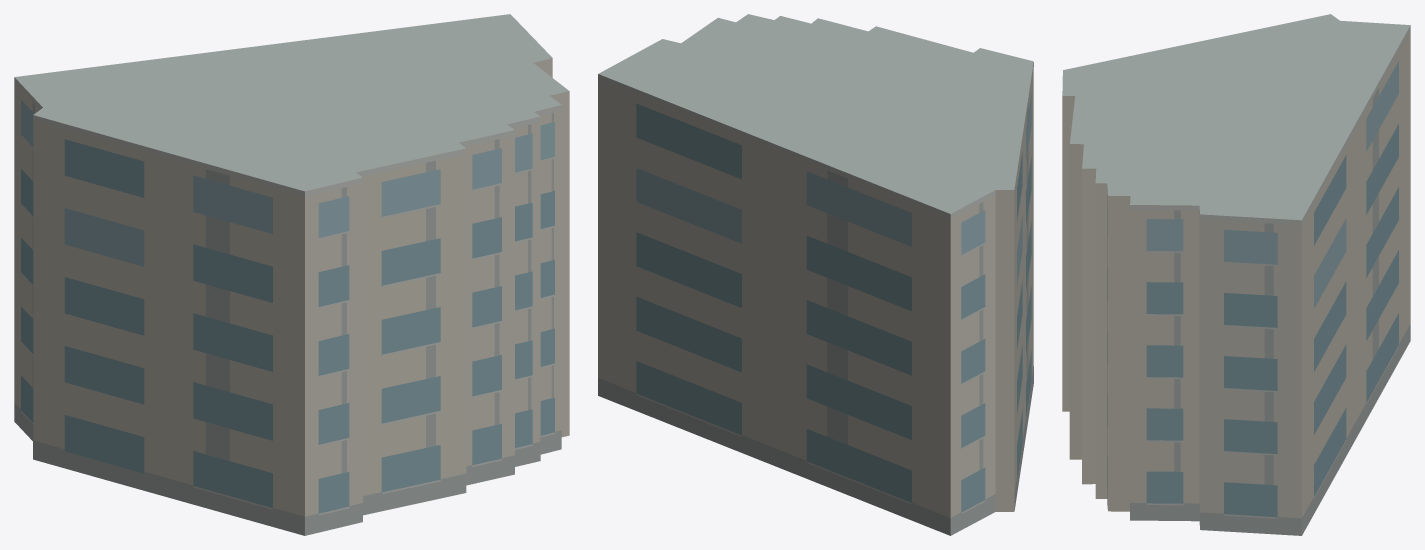
File: survey-upis-32806030.glb
3 views of the same model, side by side, from view 1: azimuth 30°, elevation 25°; view 2: azimuth 150°, elevation 25°; view 3: azimuth 270°, elevation 25° (orthographic). The views are drawn at different scales.
Parts seen in each view (by area): view 1: survey-upis-32806030.tmp; view 2: survey-upis-32806030.tmp; view 3: survey-upis-32806030.tmp.
Boxes of the visible parts, <box> form: survey-upis-32806030.tmp: <box>14,14,569,535</box>; survey-upis-32806030.tmp: <box>598,14,1033,535</box>; survey-upis-32806030.tmp: <box>1062,14,1410,535</box>.
Size of the model in its own units: 21.17 by 15.1 by 15.12.
